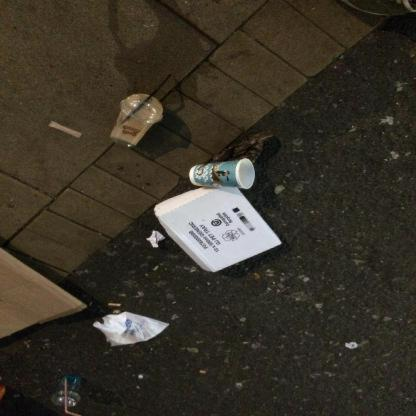Carton: (154, 186, 282, 272), (1, 247, 87, 339)
Cigarette: (108, 303, 122, 306)
Cup: (190, 158, 255, 189), (110, 108, 155, 147), (54, 373, 82, 394)
Lid: (120, 94, 163, 123), (52, 390, 82, 407)
Other litter: (92, 312, 169, 346)
Paper: (146, 231, 166, 248)
Straw: (126, 74, 172, 120), (64, 380, 82, 416)
Unlabeled litter: (47, 120, 82, 138)
